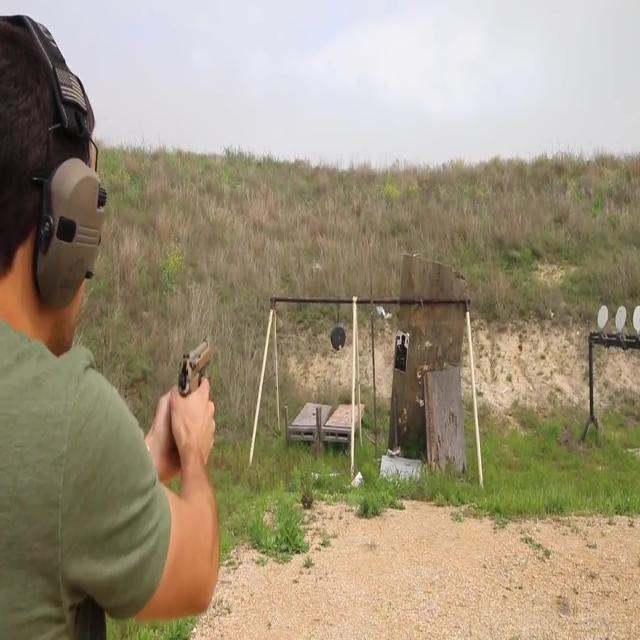Weapon: (158, 329, 242, 421)
